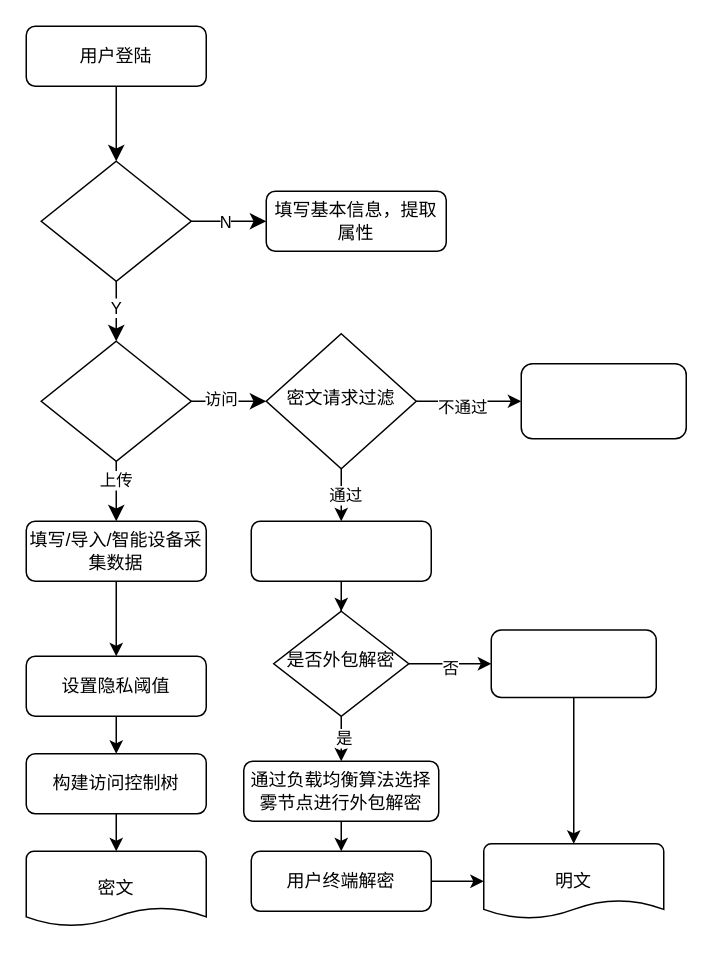
This 713x953 diagram has some shape labels left out. Here are the shapes that lost their labels. From the top down, the centre of each, then its label:
At [115,220]: "是否已注册？".
At [115,400]: "上传or访问".
At [603,400]: "拒绝访问".
At [340,550]: "下载密文".
At [573,663]: "终端设备执行解密".
